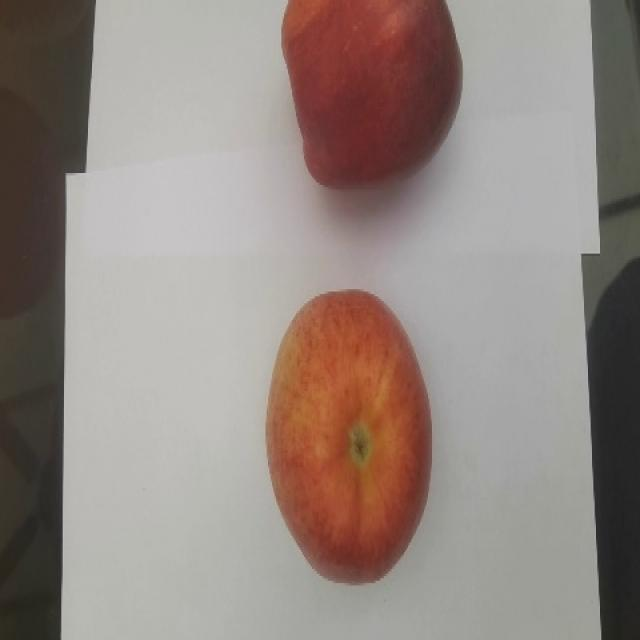Apple: (263, 289, 434, 589), (281, 0, 467, 194)
